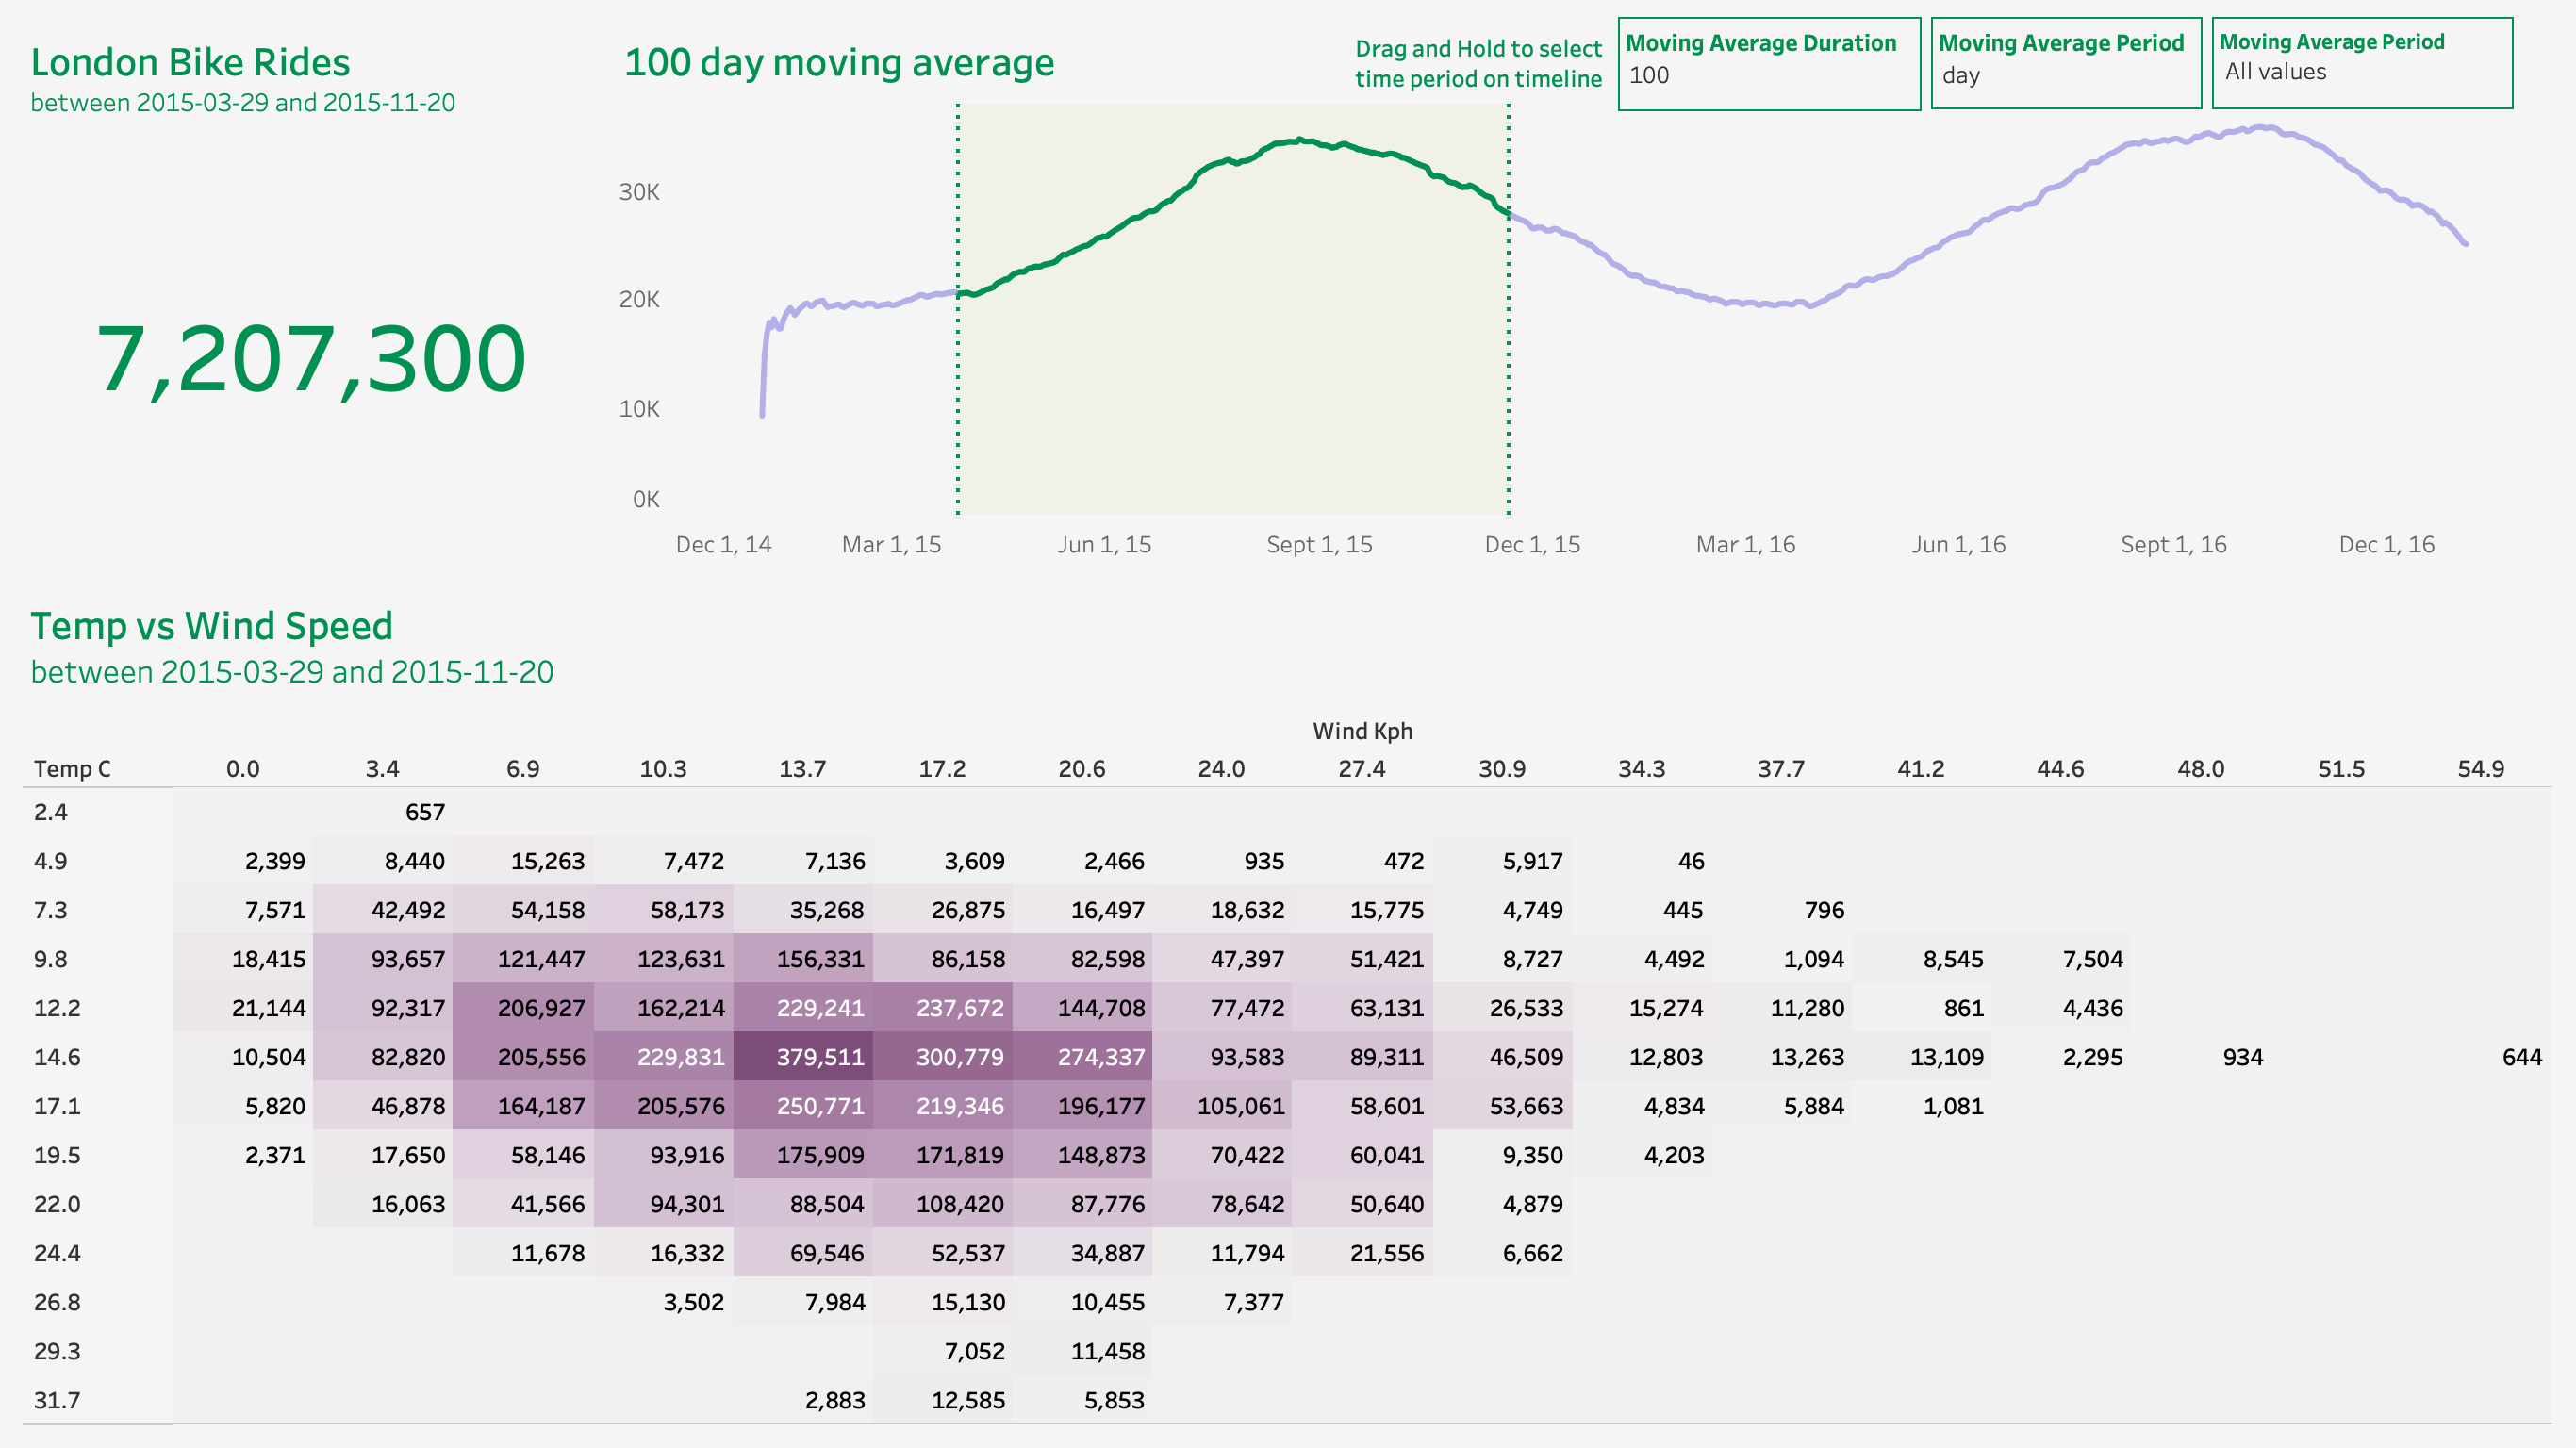

Layout of this report page (visuals, bound fields, positions):
{"tool":"tableau","page":{"name":"Dashboard 1","canvas":[1366,768],"ordinal":0},"visuals":[{"type":"text","box":[716,3,137,61]},{"type":"worksheet","title":"TotalRides","mark":"Automatic","box":[8,8,315,299]},{"type":"worksheet","title":"MovingAverage","mark":"Automatic","rows":["Calculation1"],"cols":["Calculation_3112198482053922823"],"box":[323,8,1035,299]},{"type":"parameter","param":"[Parameters].[Parameter 2]","box":[858,9,161,50]},{"type":"parameter","param":"[Parameters].[Parameter 1]","box":[1024,9,144,49]},{"type":"filter","title":"MovingAverage","param":"[federated.18kh8tc0ky4bm01fej7y41dzsc7s].[none:Calculation_3112198482053922823:q","box":[1173,9,168,65]},{"type":"worksheet","title":"Heatmap","mark":"Square","rows":["temp real C (bin)"],"cols":["Wind Speed Kph (bin)"],"box":[8,307,1350,453]}]}

Visuals, with their boxes in screenshot pixels (x1, y1, x2, y2), scaled from the page's 1366x768 canvas onto the 2576x1448 screenshot:
text: pyautogui.locateOnScreen(1350, 6, 1609, 121)
"TotalRides" worksheet: pyautogui.locateOnScreen(15, 15, 609, 579)
"MovingAverage" worksheet: pyautogui.locateOnScreen(609, 15, 2561, 579)
parameter: pyautogui.locateOnScreen(1618, 17, 1922, 111)
parameter: pyautogui.locateOnScreen(1931, 17, 2203, 109)
"MovingAverage" filter: pyautogui.locateOnScreen(2212, 17, 2529, 140)
"Heatmap" worksheet (Square marks): pyautogui.locateOnScreen(15, 579, 2561, 1433)
